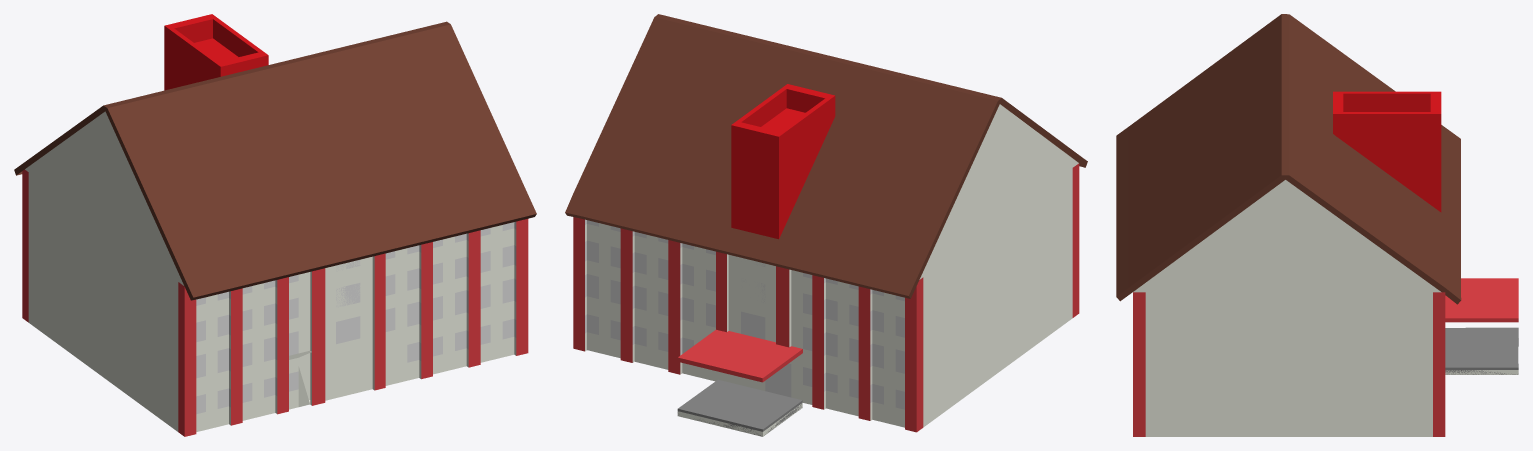
The model's file is ASRAMATELKOM.fbx.
3 renders of one model, left to right at view 1: azimuth 30°, elevation 25°; view 2: azimuth 150°, elevation 25°; view 3: azimuth 270°, elevation 25°, orthographic. The views are drawn at different scales.
Parts seen in each view (by area): view 1: Plane, Cube; view 2: Plane, Cube; view 3: Plane, Cube.
Boxes of the visible parts, x1,y1,x2,y2 form: Plane: [14, 21, 536, 436]; Cube: [164, 14, 268, 90]; Plane: [565, 14, 1087, 436]; Cube: [731, 84, 835, 239]; Plane: [1116, 14, 1518, 436]; Cube: [1333, 91, 1441, 212].
Bounding box in the file's own units: 539 × 416 × 569.
